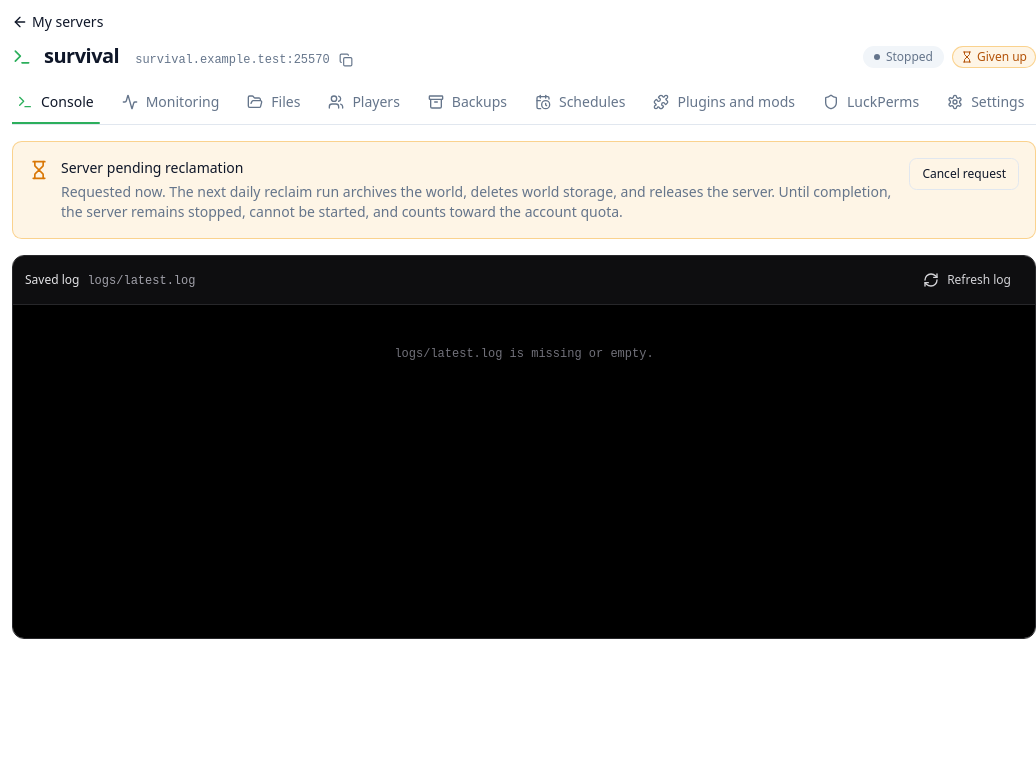
Scenario: ServerConsole retirement › shows a pending give-up and the way back in place of the card and the wake
This screenshot has width=1036, height=769.
Check: the text "Server pending reclamation" is shown, box left=61, top=158, right=243, bottom=177
Check: the button "Cancel request" is shown, box left=909, top=158, right=1019, bottom=190
What coordinates should you click on to do the following:
click the link "Settings"
I would click on:
 (986, 102)
Its box is left=947, top=92, right=1024, bottom=111.
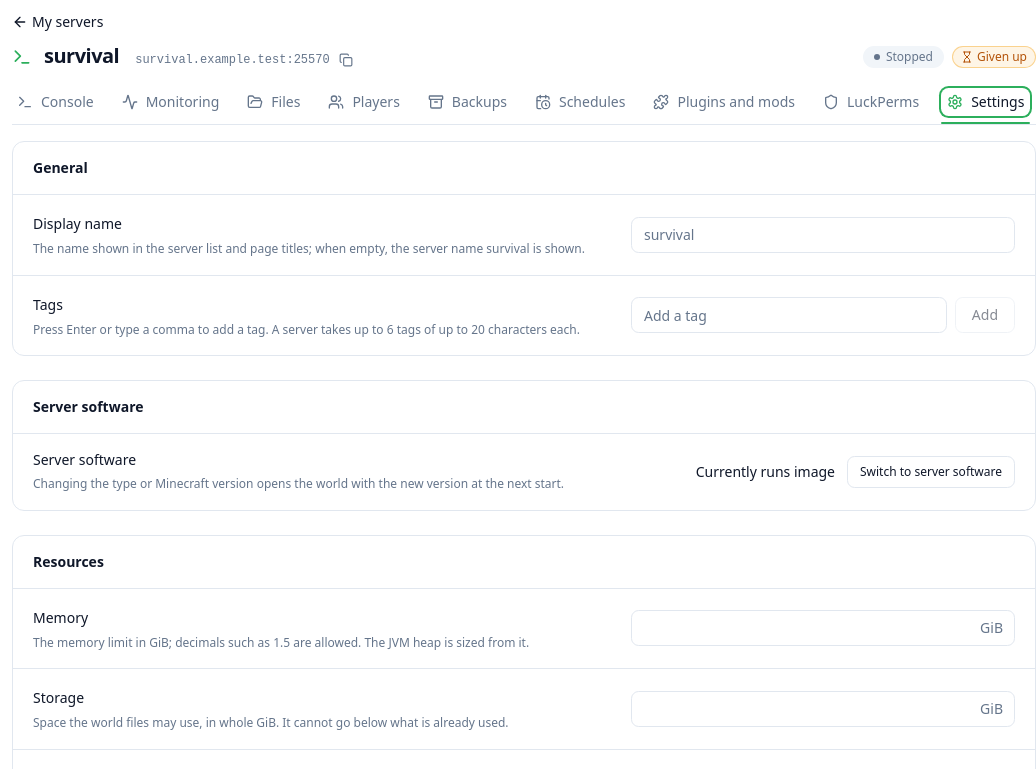
Check: the element "General" is shown, box left=12, top=141, right=1035, bottom=356
